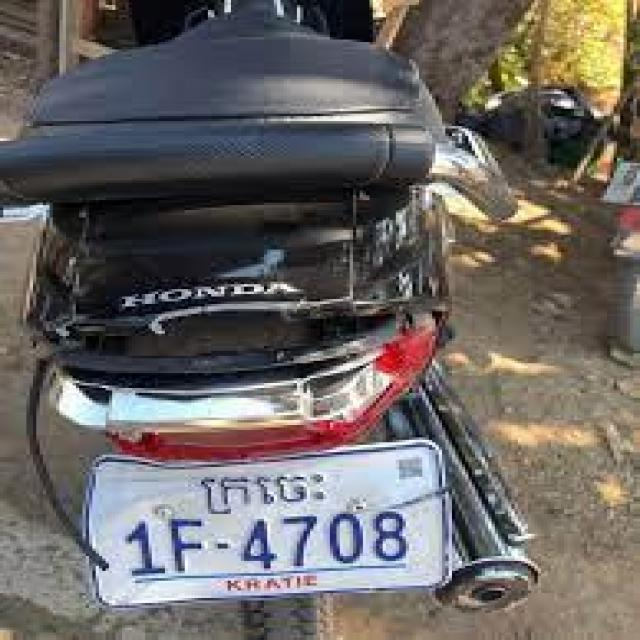Kratie: (195, 465, 340, 513)
